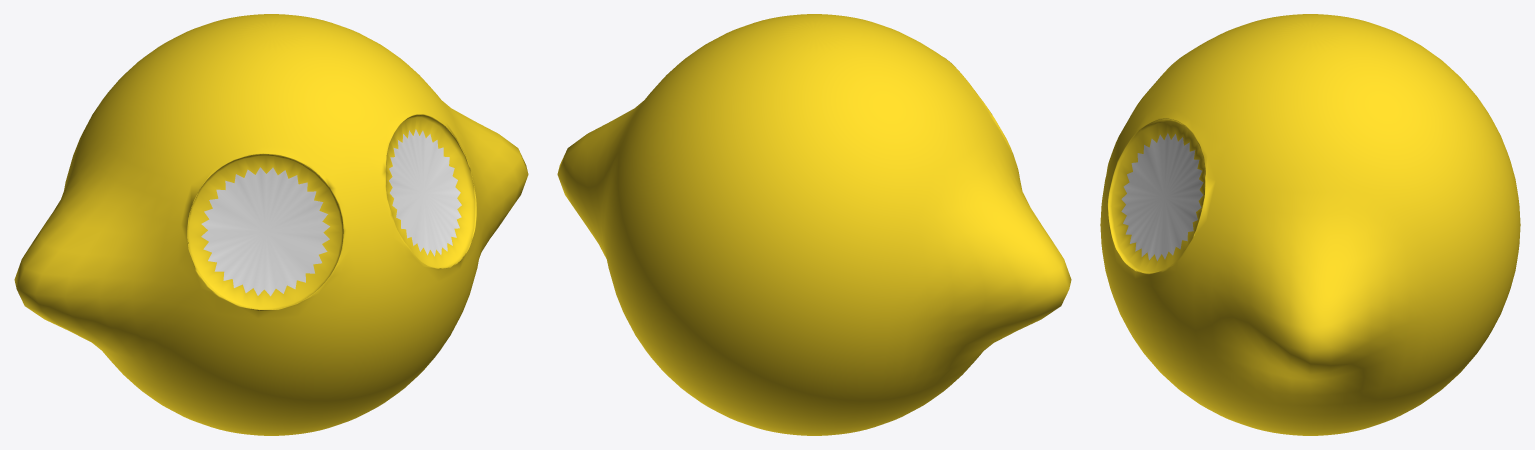
The model's file is BabyBird.fbx.
3 renders of one model, left to right at view 1: azimuth 30°, elevation 25°; view 2: azimuth 150°, elevation 25°; view 3: azimuth 270°, elevation 25°, orthographic.
Parts seen in each view (by area): view 1: Bird.002; view 2: Bird.002; view 3: Bird.002.
Part boxes in pixels (x1=…): Bird.002: x1=14, y1=14, x2=528, y2=435; Bird.002: x1=557, y1=14, x2=1071, y2=435; Bird.002: x1=1100, y1=14, x2=1520, y2=435.
Bounding box in the file's own units: 407 × 294 × 291.
